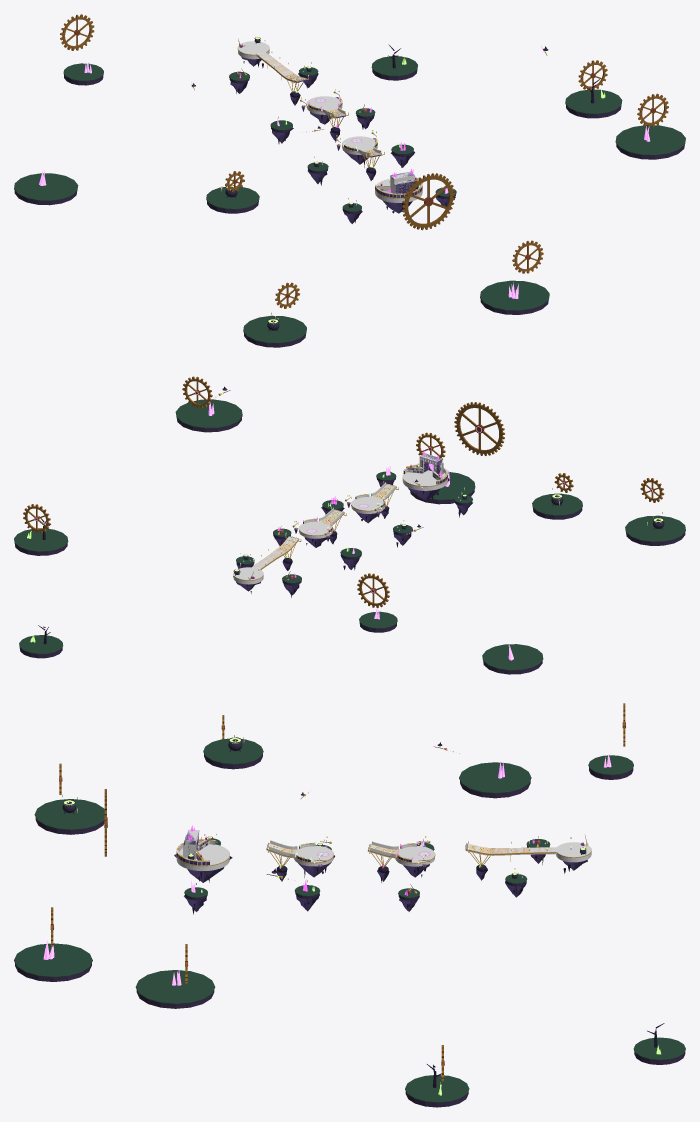
The picture shows the model from 3 angles, top to bottom: view 1: azimuth 30°, elevation 25°; view 2: azimuth 150°, elevation 25°; view 3: azimuth 270°, elevation 25°; orthographic projection. The views are drawn at different scales.
Visible parts, largest first — view 1: V_grass_dark, V_dirt, V_rock, C_1, V_brass.010, C_0, V_brass, V_brass.006, V_brass.002; view 2: V_grass_dark, V_dirt, C_1, V_rock, V_brass.010, C_0, V_brass, V_brass.006, V_brass.002; view 3: V_grass_dark, V_dirt, C_1, V_rock, C_0, V_brass.
Boxes of the visible parts, x1,y1,x2,y2 form: V_grass_dark: (14,56,685,343); V_dirt: (14,69,684,347); V_rock: (230,53,455,223); C_1: (306,96,422,202); V_brass.010: (402,173,455,230); C_0: (238,41,380,157); V_brass: (237,43,422,198); V_brass.006: (60,14,94,50); V_brass.002: (637,93,668,127); V_grass_dark: (14,399,685,670); V_dirt: (15,417,685,674); C_1: (299,470,447,538); V_rock: (233,478,472,595); V_brass.010: (454,402,504,455); C_0: (233,484,395,584); V_brass: (233,464,447,580); V_brass.006: (357,573,389,608); V_brass.002: (182,376,212,408); V_grass_dark: (14,738,685,1102); V_dirt: (15,754,685,1107); C_1: (176,844,434,870); V_rock: (174,849,587,911); C_0: (267,842,591,862); V_brass: (176,838,591,890).
Size of the model in its own units: 168 by 43.54 by 152.
